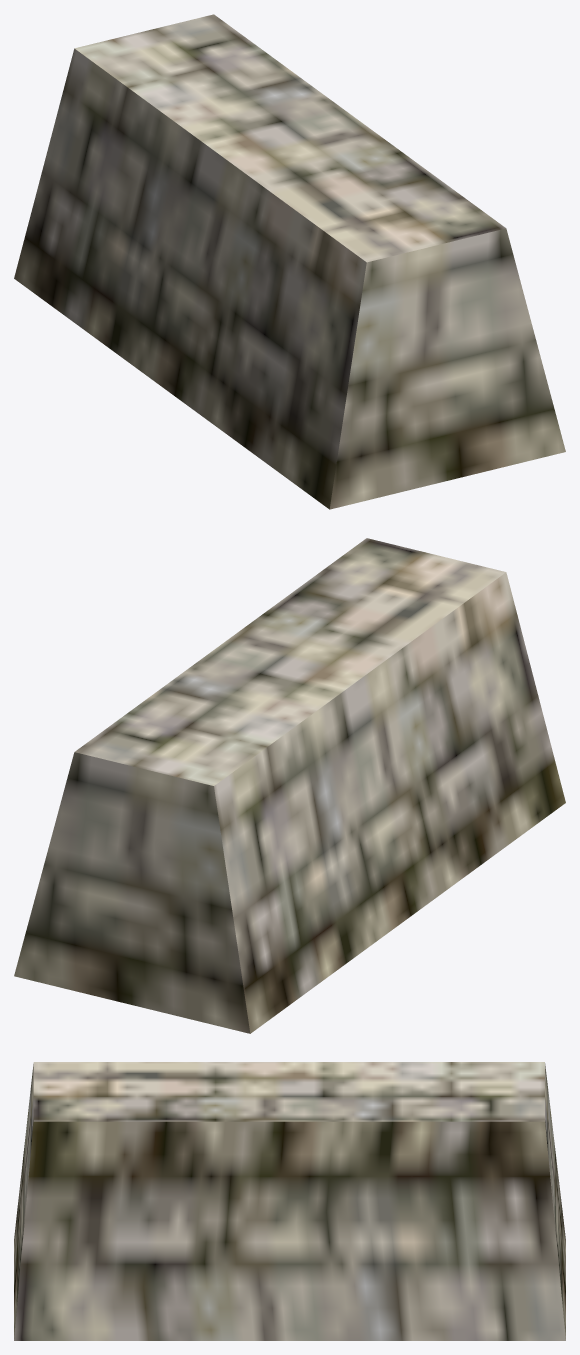
Rendered from building_construction_g_long_brick.glb.
The picture shows the model from 3 angles, top to bottom: view 1: azimuth 30°, elevation 25°; view 2: azimuth 150°, elevation 25°; view 3: azimuth 270°, elevation 25°; orthographic projection. The views are drawn at different scales.
Parts seen in each view (by area): view 1: MeshRoot; view 2: MeshRoot; view 3: MeshRoot.
Part boxes in pixels (x1,y1,x2,y2): MeshRoot: [14, 14, 565, 509]; MeshRoot: [14, 538, 565, 1033]; MeshRoot: [14, 1062, 565, 1340].
Size of the model in its own units: 0.7109 by 0.653 by 1.64.
1 material, 1 textured.
